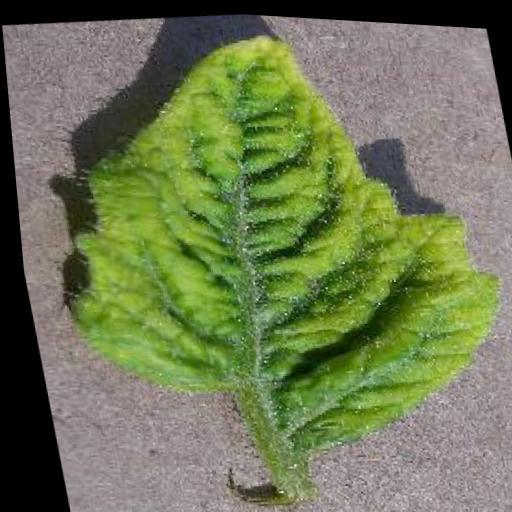Yellow Leaf Curl Virus: (14, 1, 512, 492)
